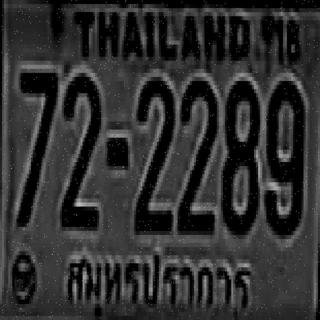N02: (134, 73, 173, 231), (60, 71, 99, 225), (178, 77, 215, 231)
N07: (17, 69, 56, 223)
N08: (221, 77, 258, 231)
N09: (264, 77, 301, 231)
P57: (60, 248, 254, 314)
